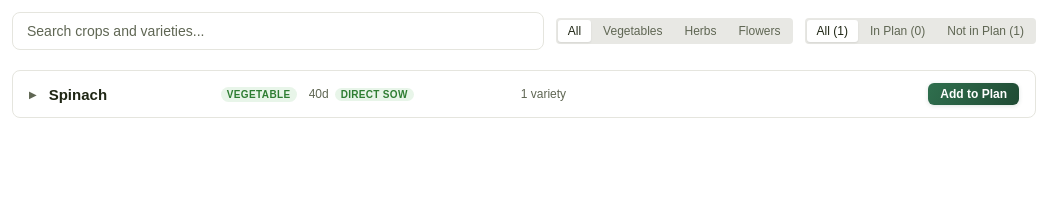
LibraryView › default entry support › shows cultivar cards when expanded (no separate default section)
Click the text "Spinach".
click(78, 94)  # box [49, 86, 107, 102]
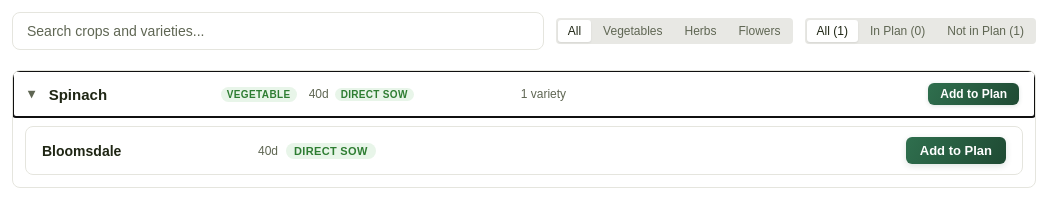
expect the text "Bloomsdale" is shown: met, box [42, 142, 121, 158]
